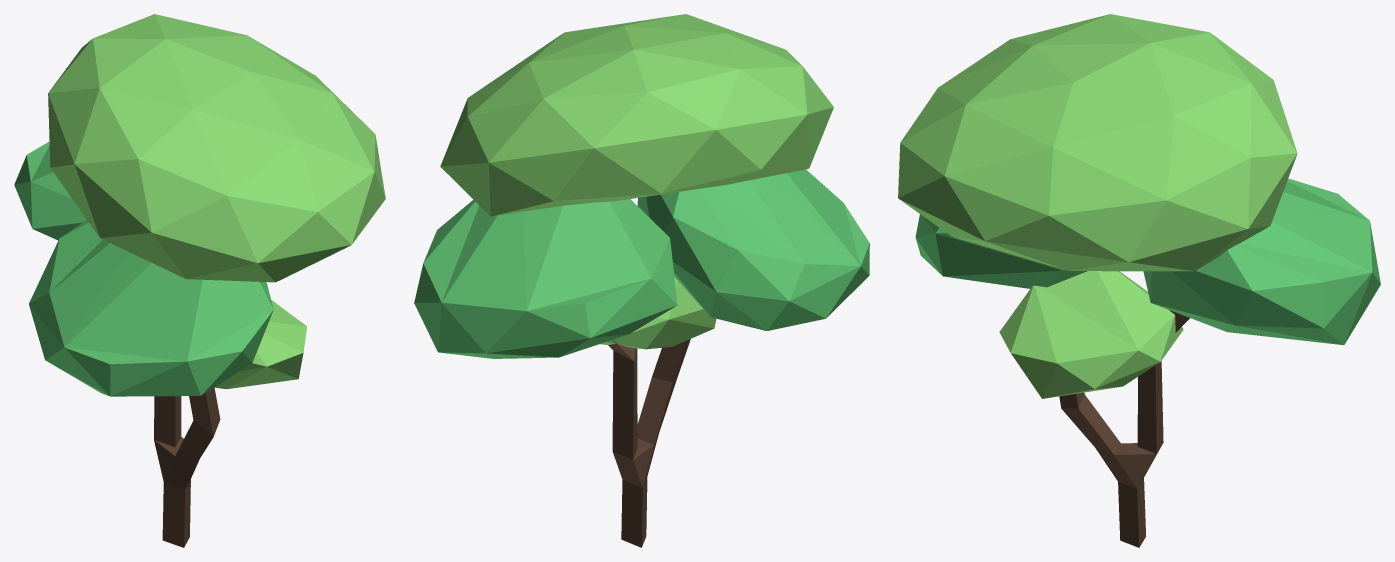
Rendered from Tree_Type1_2.fbx.
3 views of the same model, side by side, from view 1: azimuth 30°, elevation 25°; view 2: azimuth 150°, elevation 25°; view 3: azimuth 270°, elevation 25° (orthographic).
Visible parts, largest first — view 1: Tree_Type1_2; view 2: Tree_Type1_2; view 3: Tree_Type1_2.
Part boxes in pixels (x1,y1,x2,y2): Tree_Type1_2: [14, 14, 385, 547]; Tree_Type1_2: [414, 14, 869, 547]; Tree_Type1_2: [898, 14, 1380, 547].
Bounding box in the file's own units: 207 × 296 × 261.
